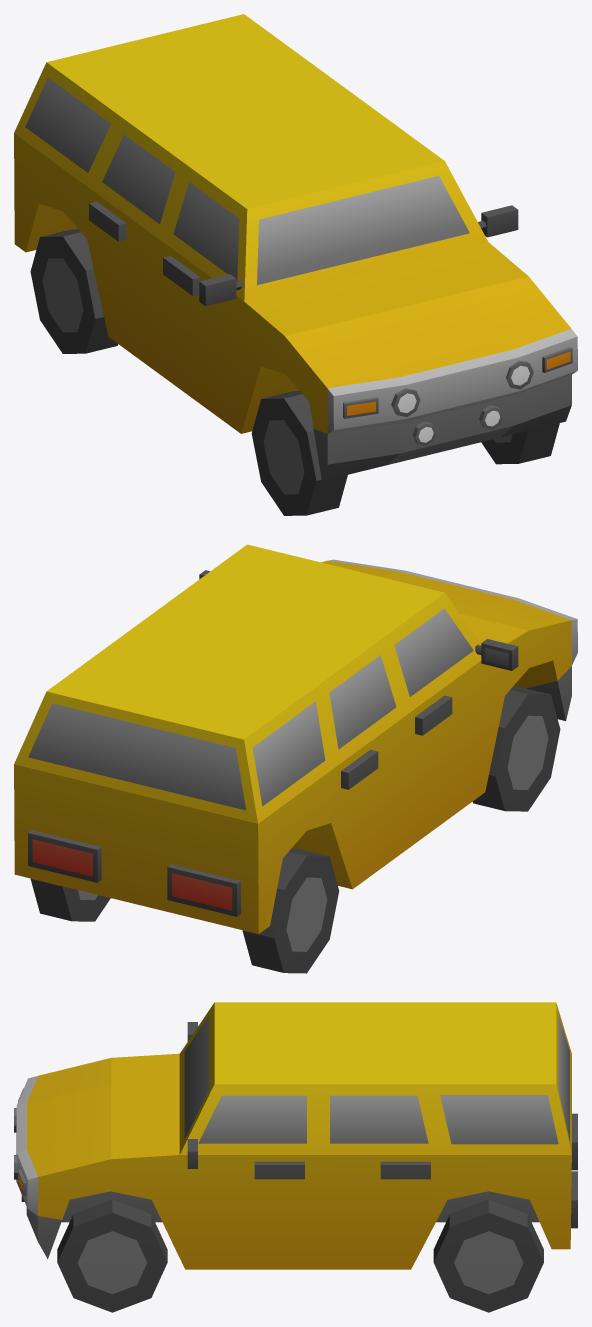
File: car SUV large yellow.fbx
3 renders of one model, top to bottom at view 1: azimuth 30°, elevation 25°; view 2: azimuth 150°, elevation 25°; view 3: azimuth 270°, elevation 25°, orthographic. The views are drawn at different scales.
Visible parts, largest first — view 1: car SUV large body, front wheel 1, rear wheels, front wheel 2; view 2: car SUV large body, rear wheels, front wheel 1; view 3: car SUV large body, front wheel 2, rear wheels.
Part boxes in pixels (x1,y1,x2,y2): car SUV large body: (14,14,577,480); front wheel 1: (251,391,347,515); rear wheels: (30,229,118,353); front wheel 2: (481,423,559,464); car SUV large body: (14,544,577,933); rear wheels: (30,848,339,973); front wheel 1: (472,686,560,811); car SUV large body: (14,1002,577,1269); front wheel 2: (57,1199,167,1312); rear wheels: (433,1199,543,1312).
Size of the model in its own units: 238 by 187 by 437.
